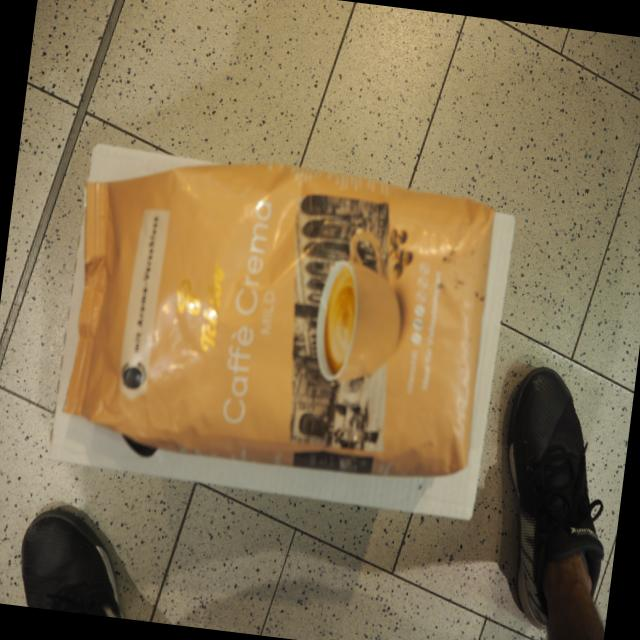CC Mild: (50, 133, 506, 494)
